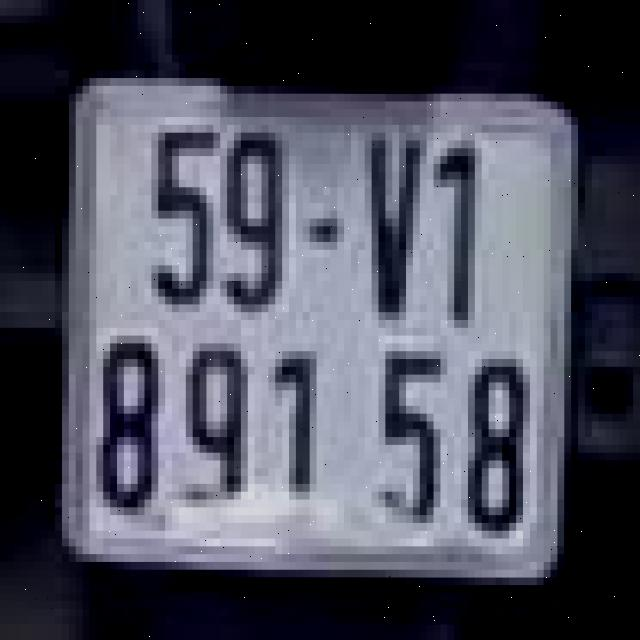1: (268, 347, 330, 535), (440, 125, 496, 328)
5: (148, 113, 224, 316), (372, 344, 447, 538)
8: (83, 328, 165, 531), (461, 348, 537, 550)
9: (230, 125, 292, 320), (182, 339, 245, 527)
V: (355, 121, 430, 332)
